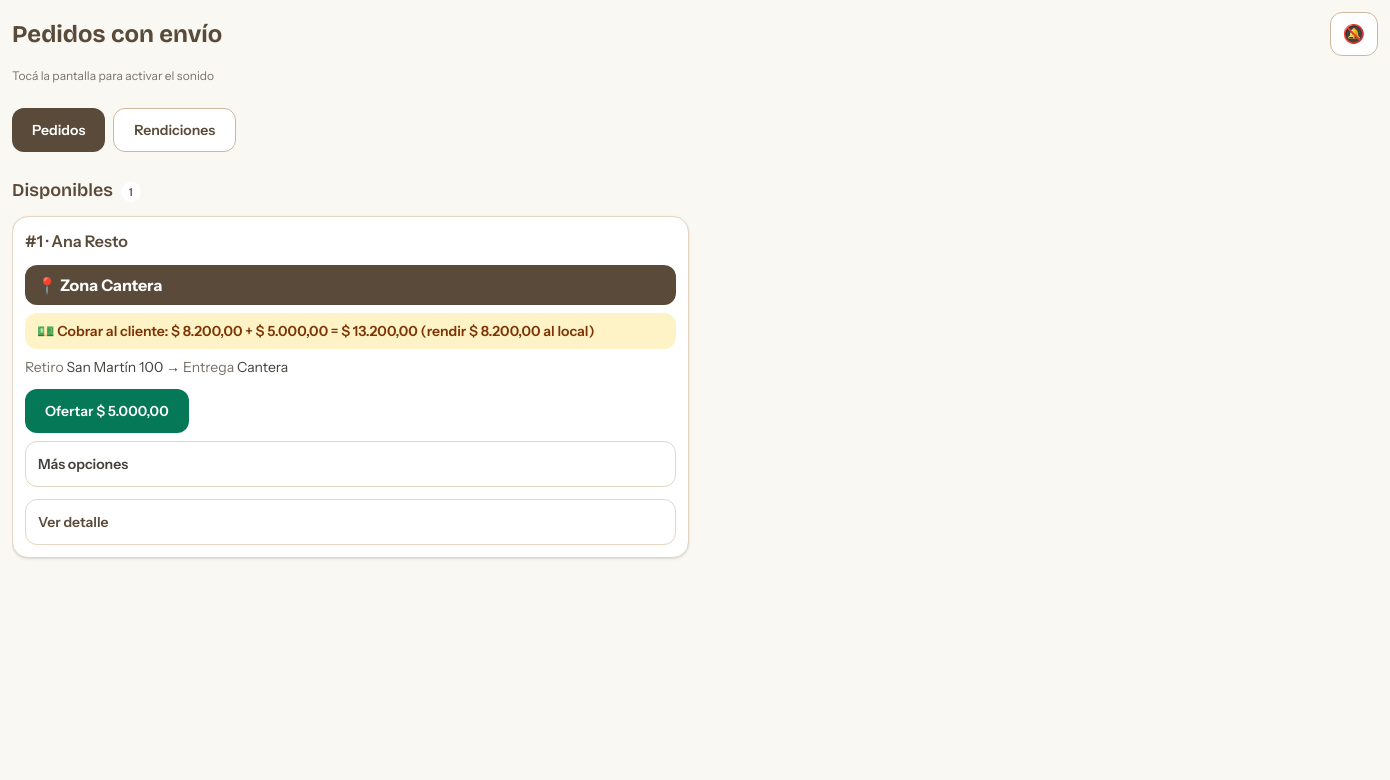
Test case: tablero del repartidor — ENVIO-76 a 78 › si el pedido ya no recibe ofertas, avisa
The width and height of the screenshot is (1390, 780).
Click the button "Ofertar $ 5.000,00" at (107, 411), box [25,389,189,433]
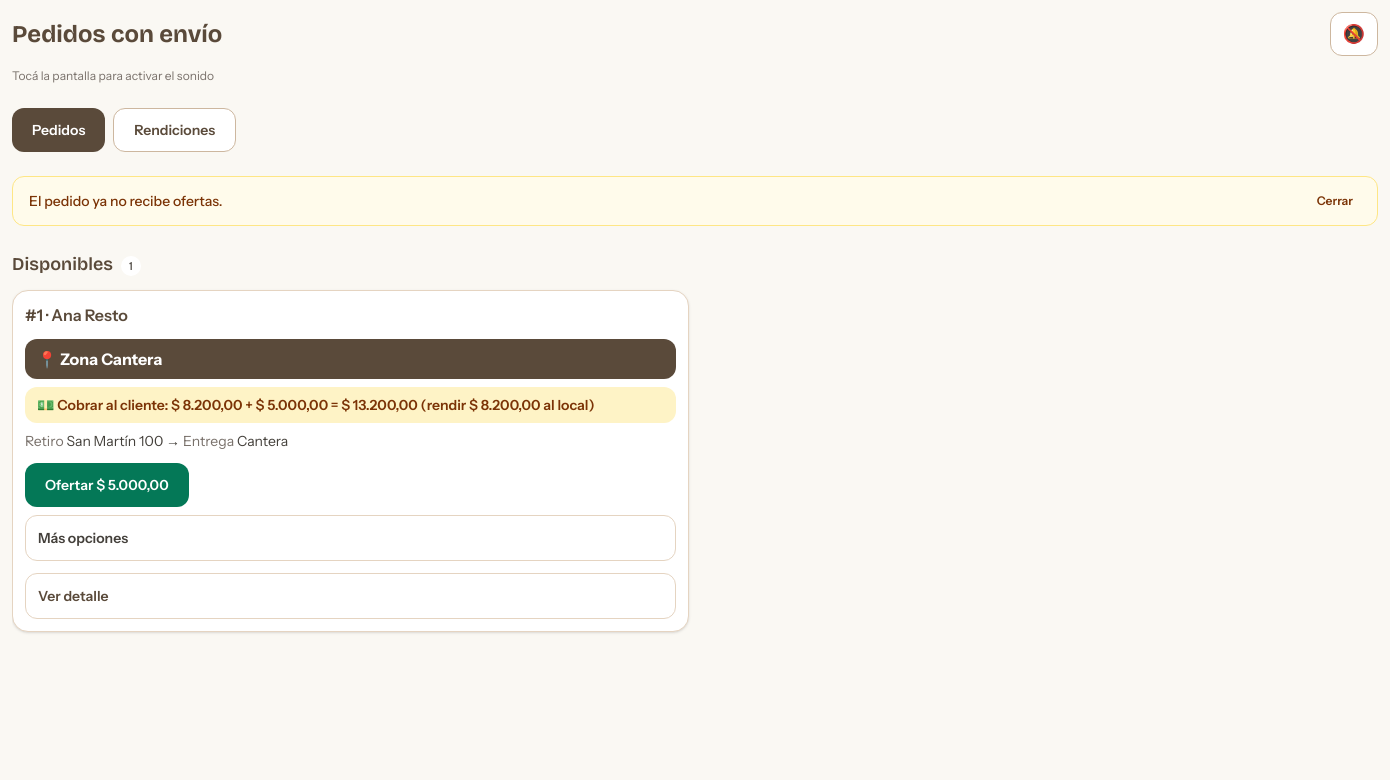
Expected: the message shows "ya no recibe ofertas", [29,192,222,210]
